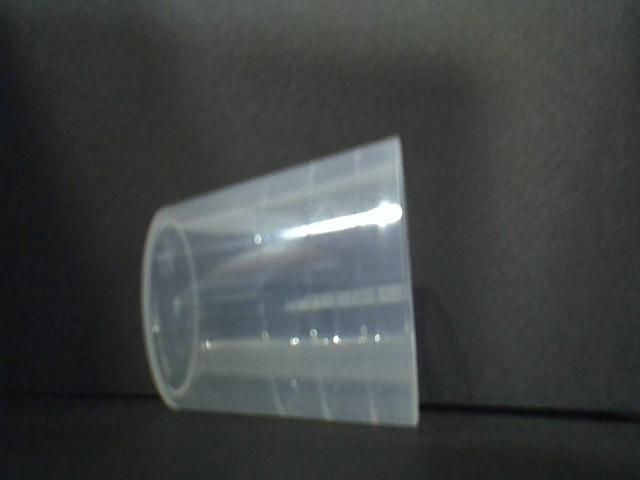cup: (133, 137, 439, 441)
